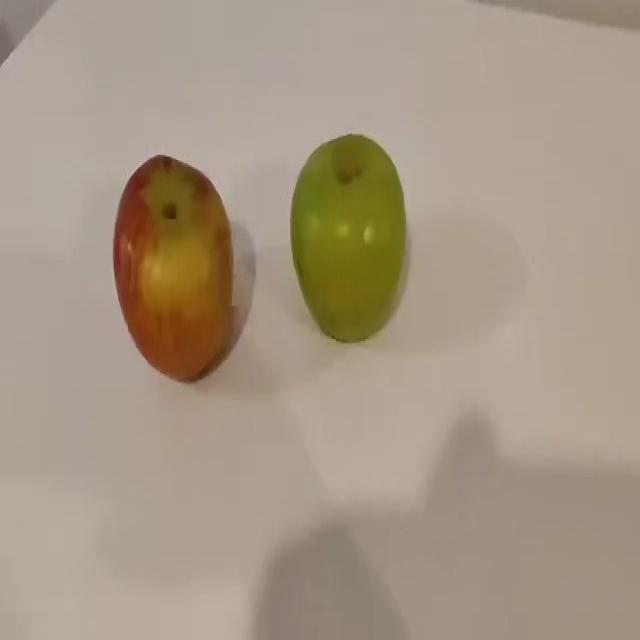Apple: (112, 153, 234, 382), (289, 132, 408, 342)
